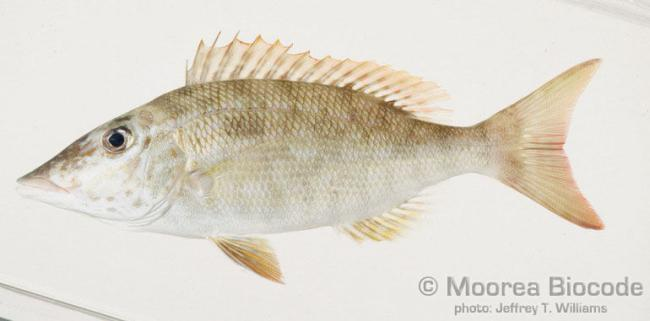fish: (12, 29, 604, 286)
